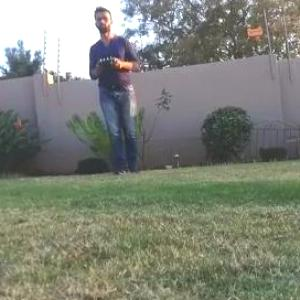follow: (85, 2, 153, 179)
